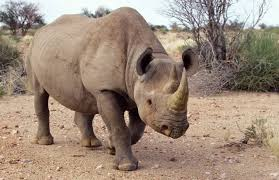Rhinoceros: (26, 1, 191, 173)
